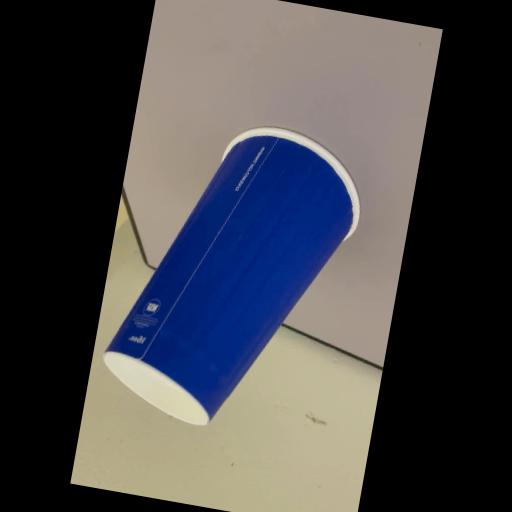lp_paper_cup: (94, 108, 368, 444)
